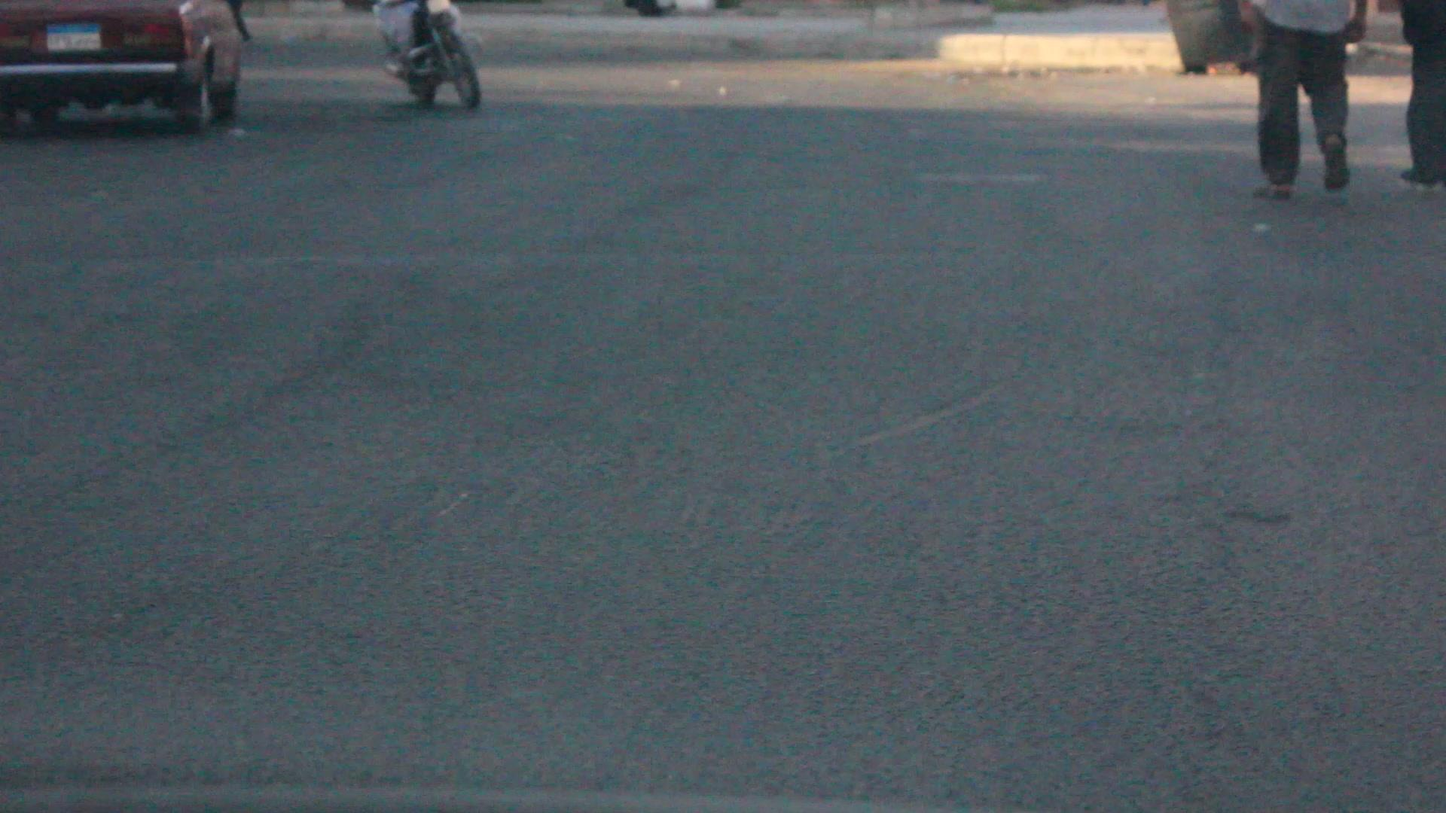Bump: (0, 256, 1446, 382)
